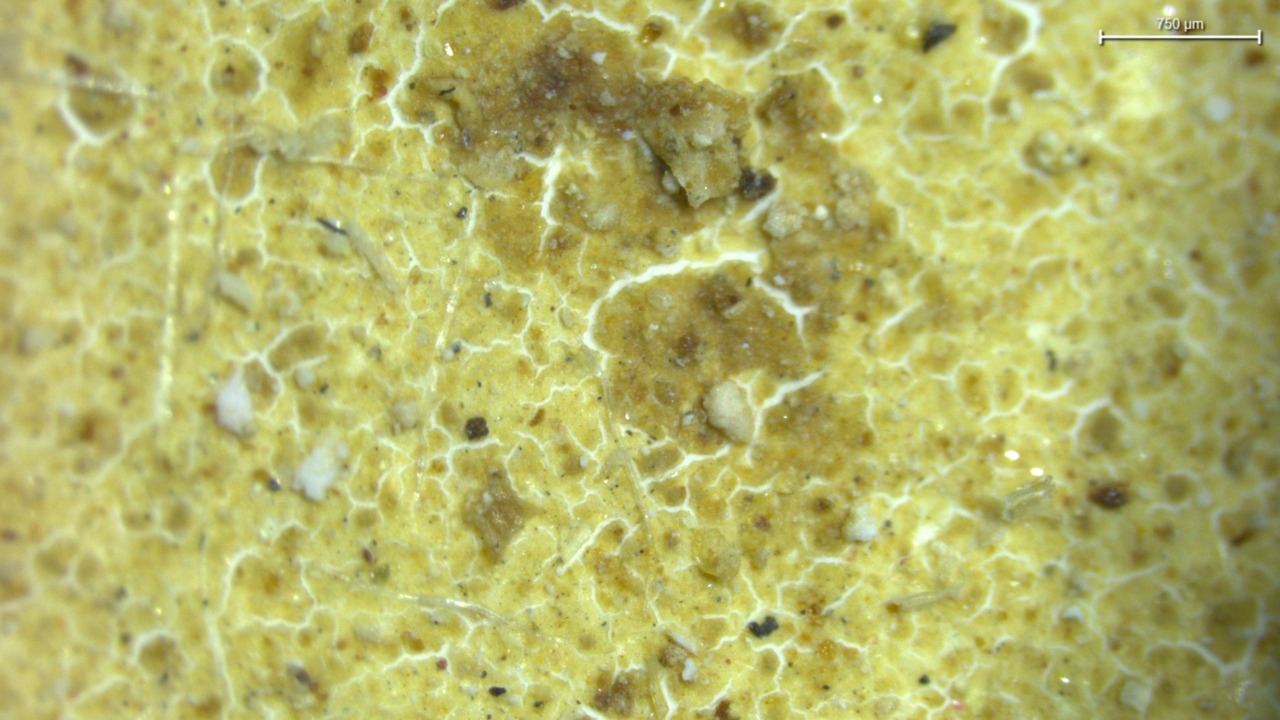microplastic_fragment: (638, 80, 738, 207), (703, 380, 754, 442)
